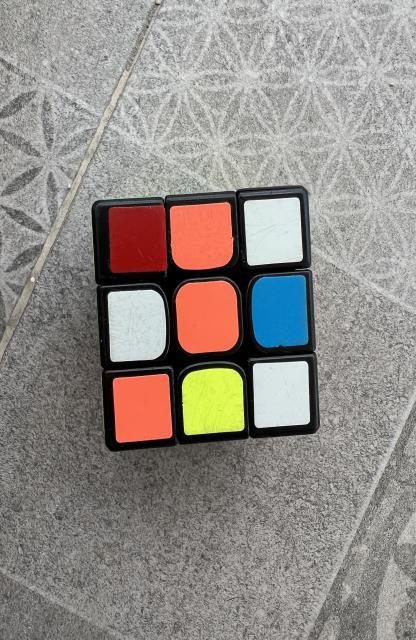Blue: (251, 275, 309, 348)
Orange: (176, 280, 239, 354), (170, 202, 234, 270), (113, 374, 172, 442)
Red: (108, 205, 167, 272)
White: (107, 290, 167, 362), (244, 198, 303, 265), (252, 361, 310, 429)
Yellow: (182, 368, 245, 435)
